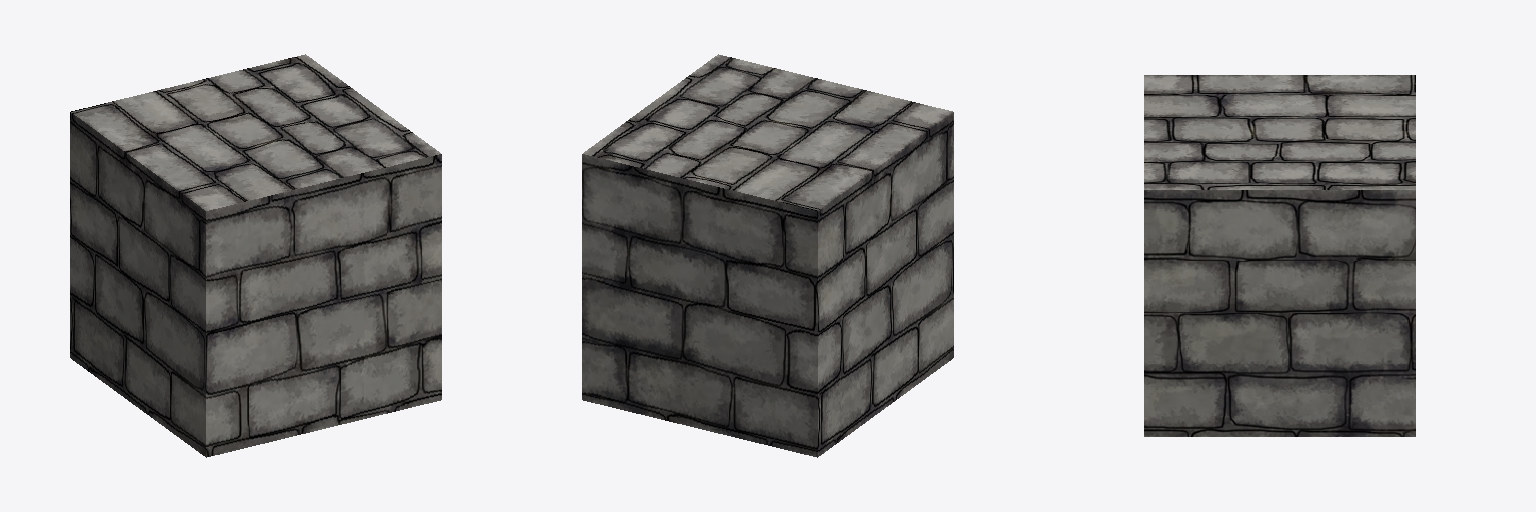
3 renders of one model, left to right at view 1: azimuth 30°, elevation 25°; view 2: azimuth 150°, elevation 25°; view 3: azimuth 270°, elevation 25°, orthographic.
Parts seen in each view (by area): view 1: Pool brick; view 2: Pool brick; view 3: Pool brick.
Boxes of the visible parts, box(x1,y1,x2,y2) form: Pool brick: box(70, 54, 441, 457); Pool brick: box(582, 54, 953, 457); Pool brick: box(1144, 75, 1415, 436).
Bounding box in the file's own units: 2 × 2 × 2.
1 materials, 1 textured.